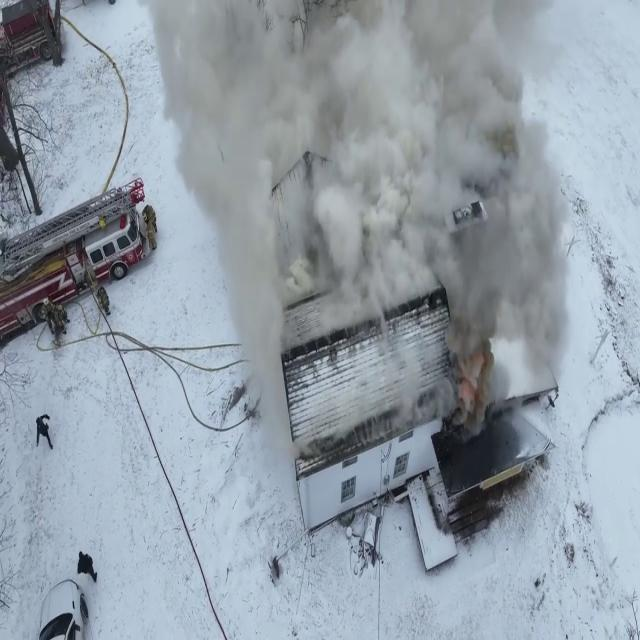Smoke: (152, 0, 592, 418)
